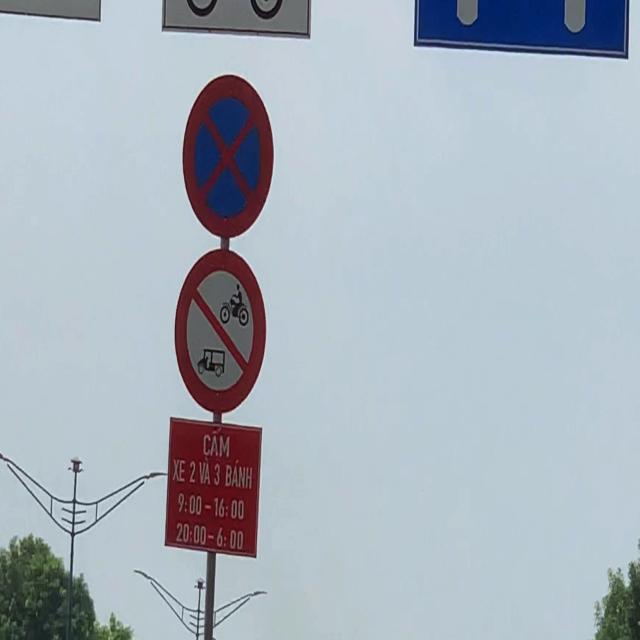Cam dung va do: (182, 73, 274, 239)
